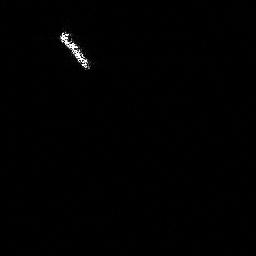ship: (57, 29, 94, 72)
